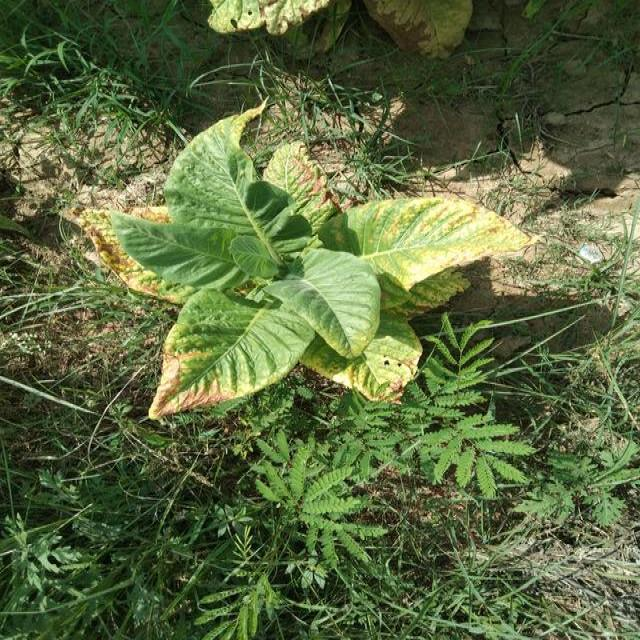crop: (113, 110, 513, 437)
